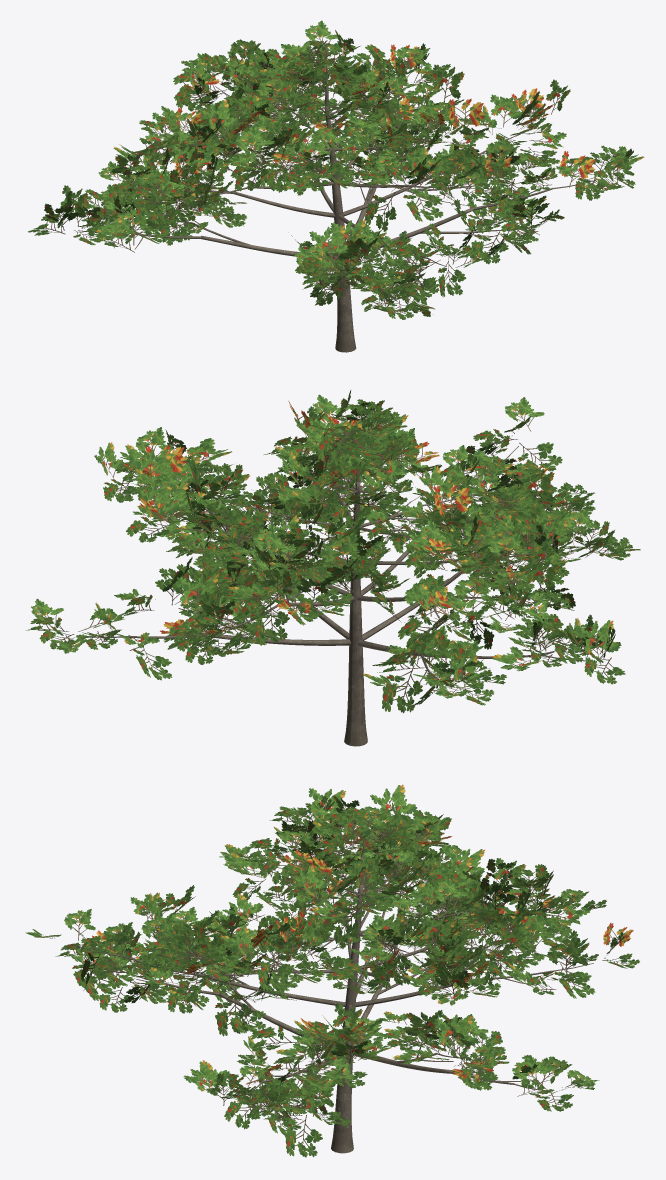
File: Kobateishi_A.gltf
The picture shows the model from 3 angles, top to bottom: view 1: azimuth 30°, elevation 25°; view 2: azimuth 150°, elevation 25°; view 3: azimuth 270°, elevation 25°; orthographic projection. The views are drawn at different scales.
Visible parts, largest first — view 1: Kobateishi_A; view 2: Kobateishi_A; view 3: Kobateishi_A.
Boxes of the visible parts, bbox=[...] form: Kobateishi_A: bbox=[28, 20, 644, 352]; Kobateishi_A: bbox=[26, 390, 640, 746]; Kobateishi_A: bbox=[25, 784, 639, 1157].
Bounding box in the file's own units: 19.76 × 11 × 18.57.
Materials: 2 (2 with a texture image).
